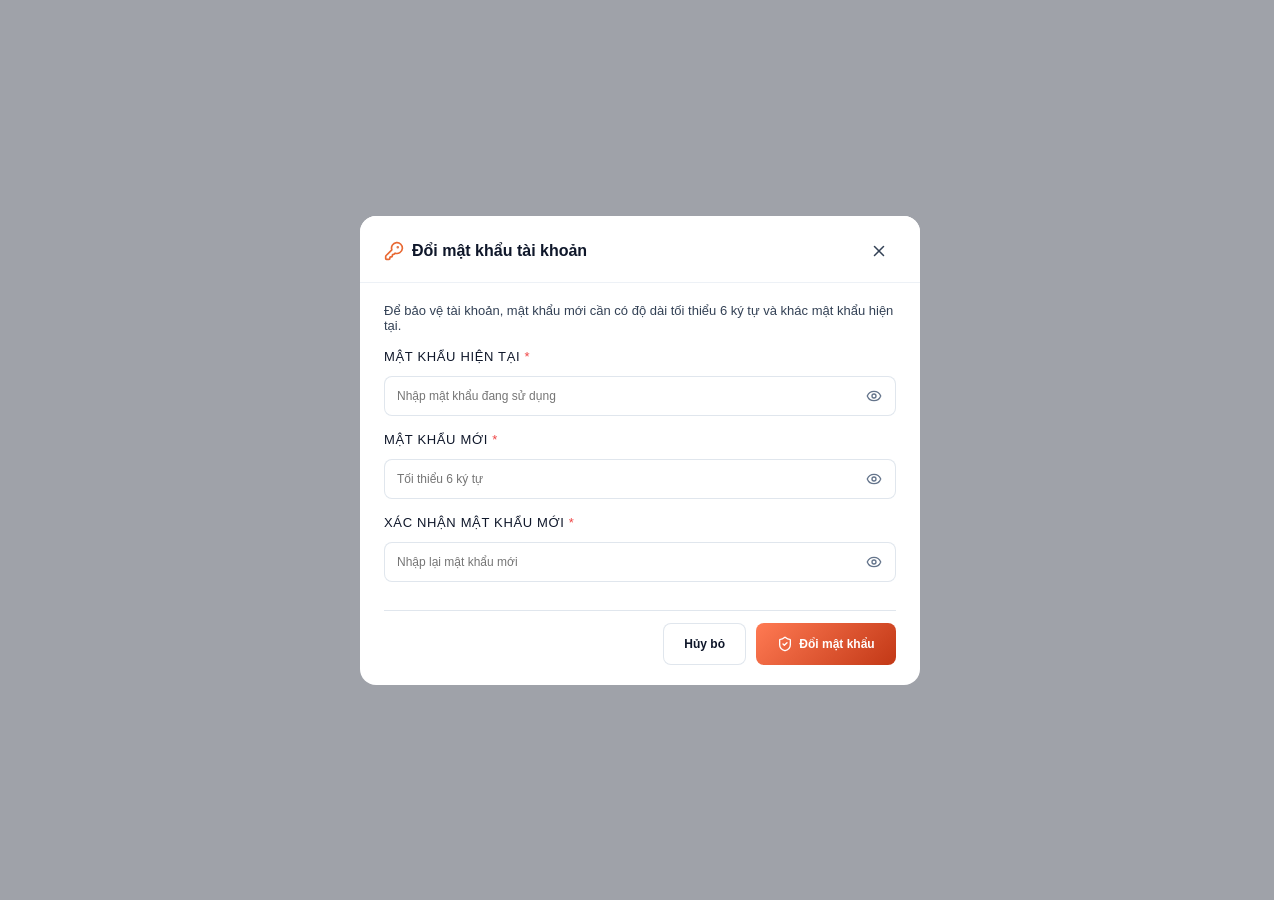
it: ChangePasswordModal › validates matching passwords and minimum length in modal
In the password field with placeholder "Nhập mật khẩu đang sử dụng": [640, 396] box top-left (384, 376), bottom-right (896, 416), type "oldpass123"
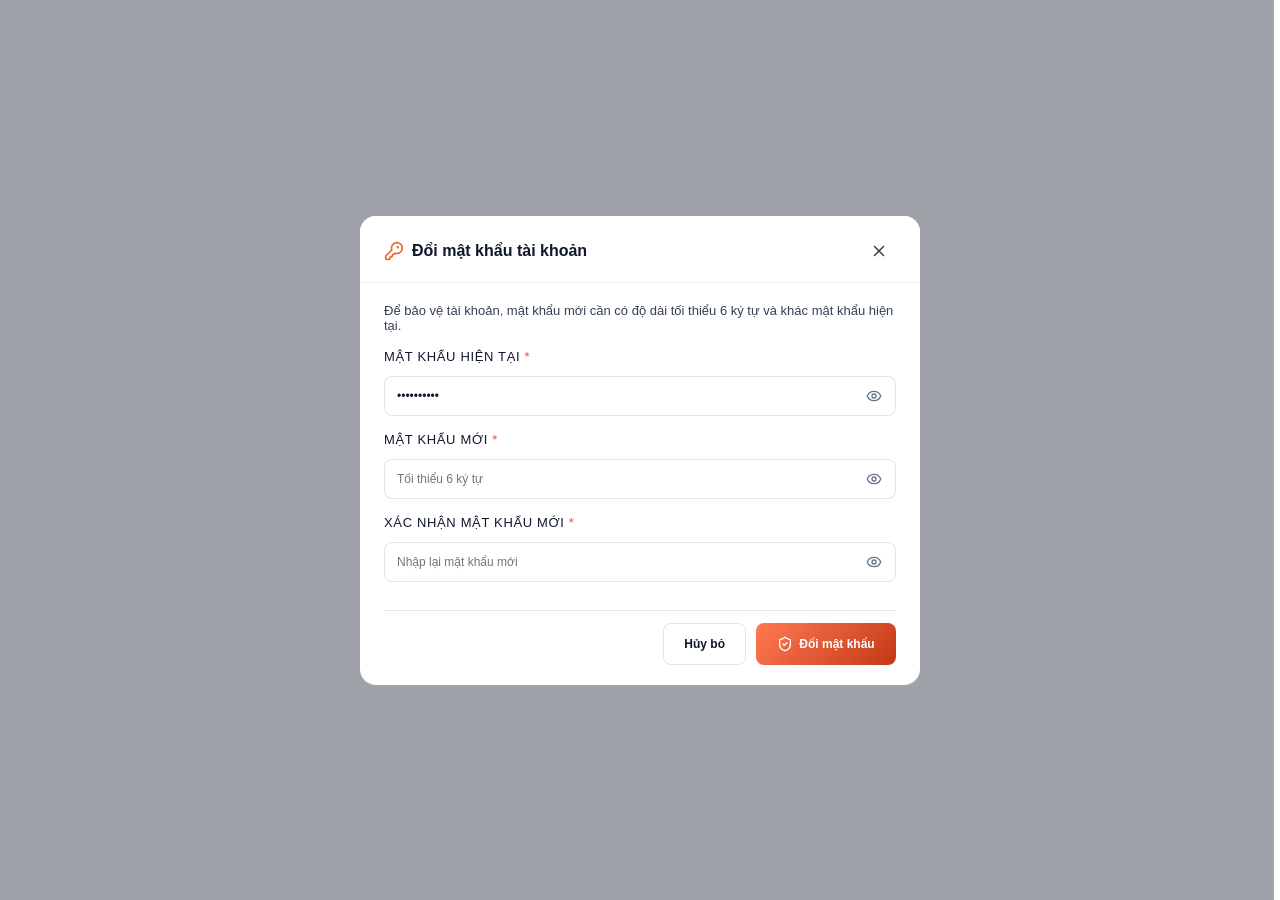
In the password field with placeholder "Tối thiểu 6 ký tự": [640, 478] box top-left (384, 458), bottom-right (896, 498), type "123"
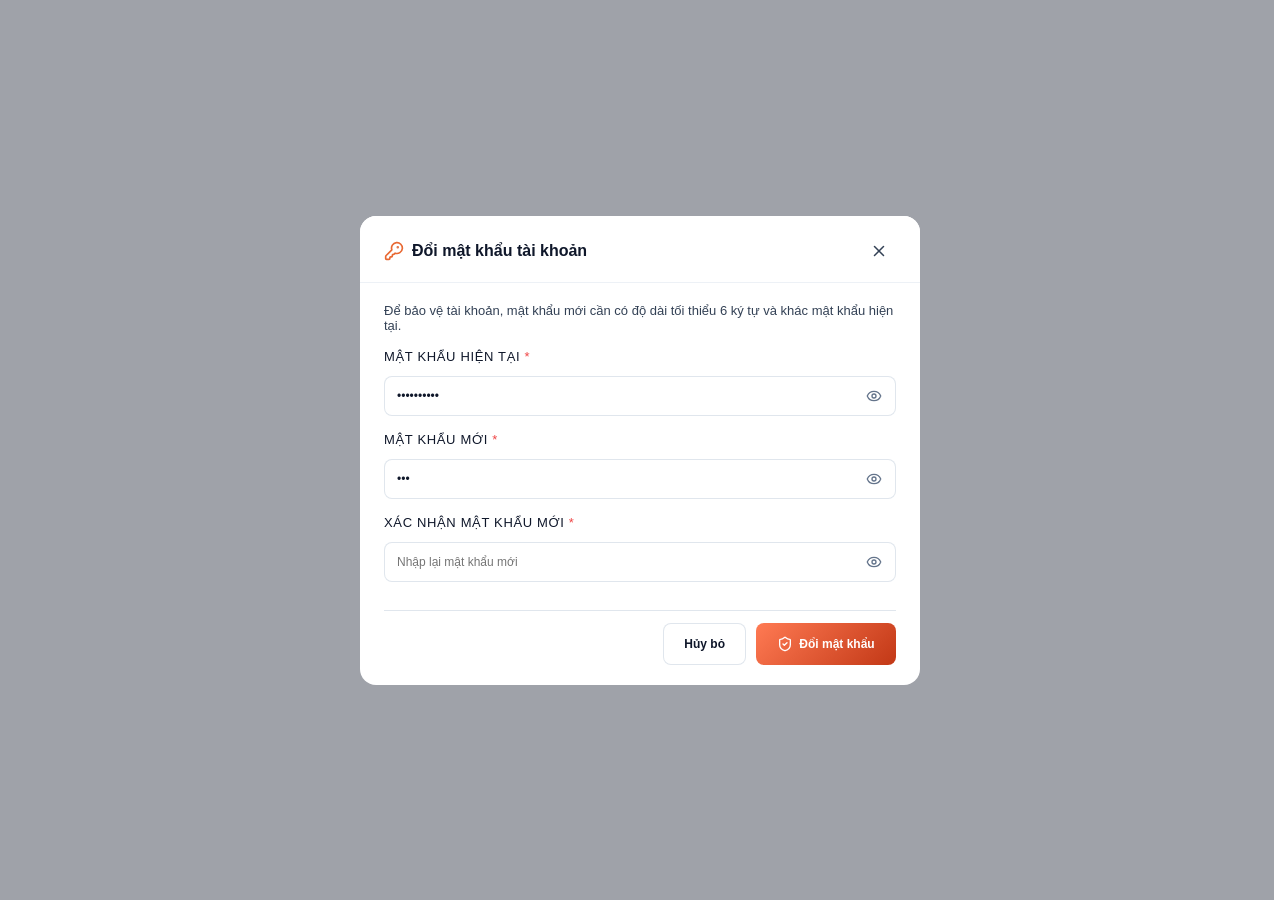
In the password field with placeholder "Nhập lại mật khẩu mới": [640, 562] box top-left (384, 542), bottom-right (896, 582), type "123"
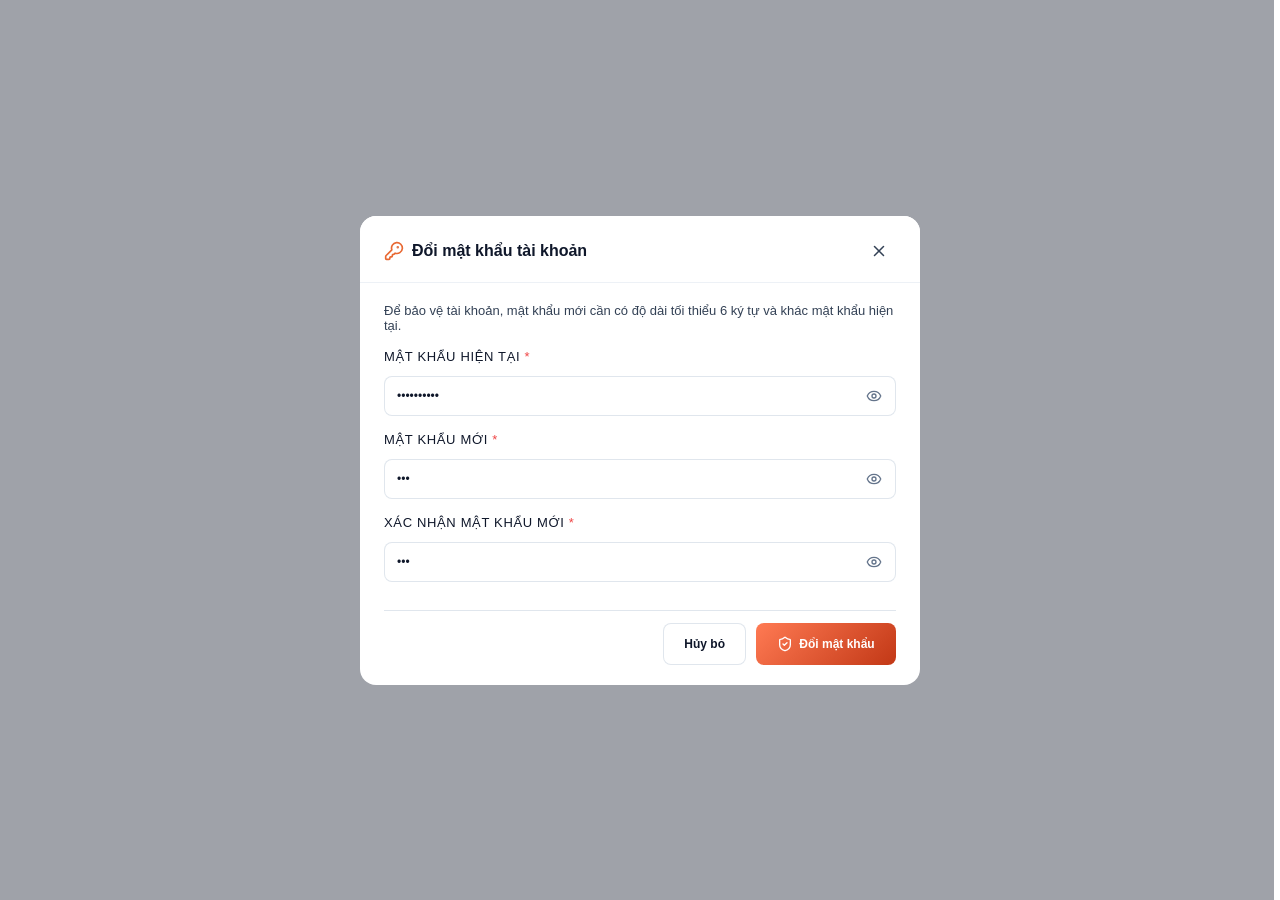
Click the button "Đổi mật khẩu": [826, 644] box top-left (756, 622), bottom-right (896, 664)
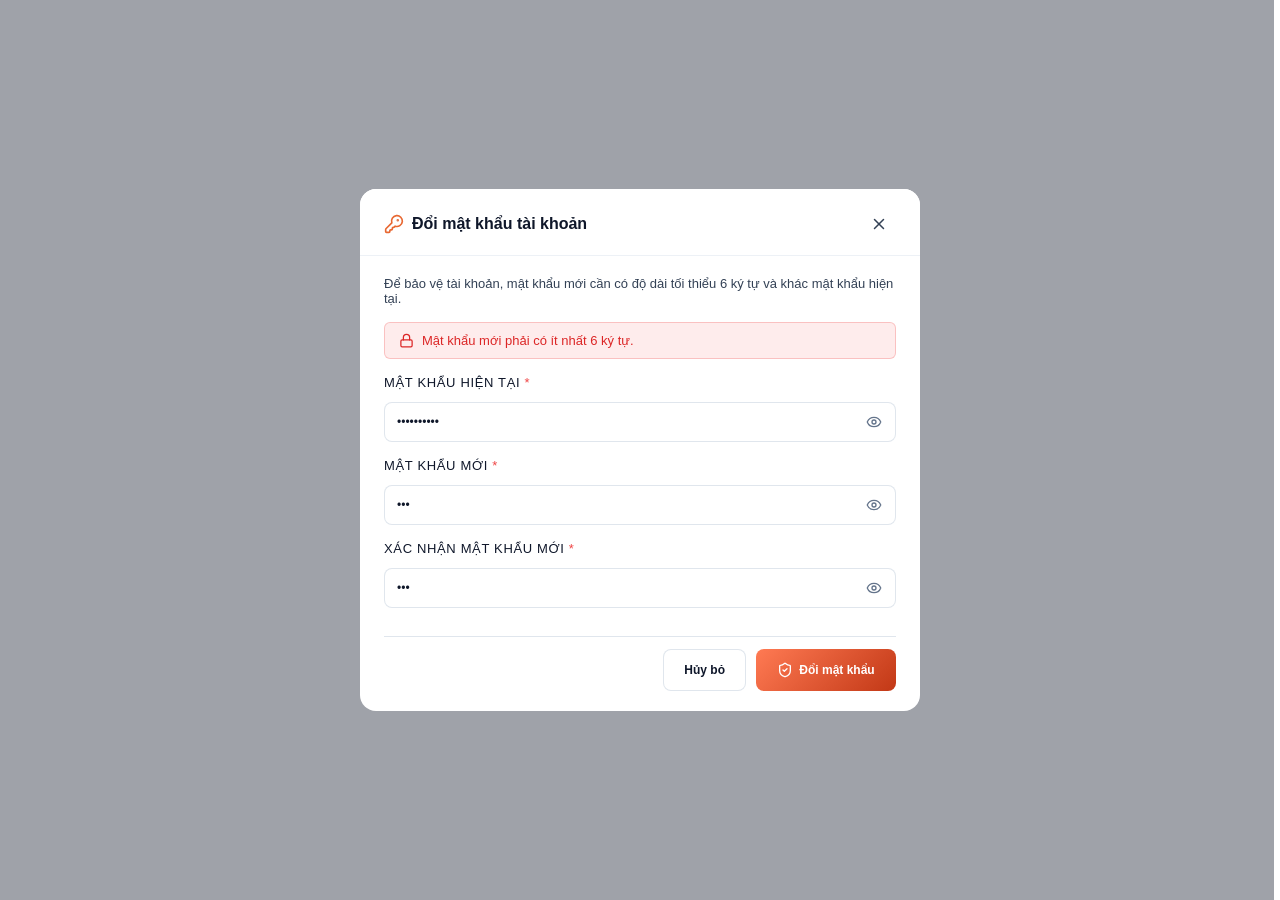
Now the text "Mật khẩu mới phải có ít nhất 6 ký tự." is shown, box top-left (422, 333), bottom-right (634, 348)
